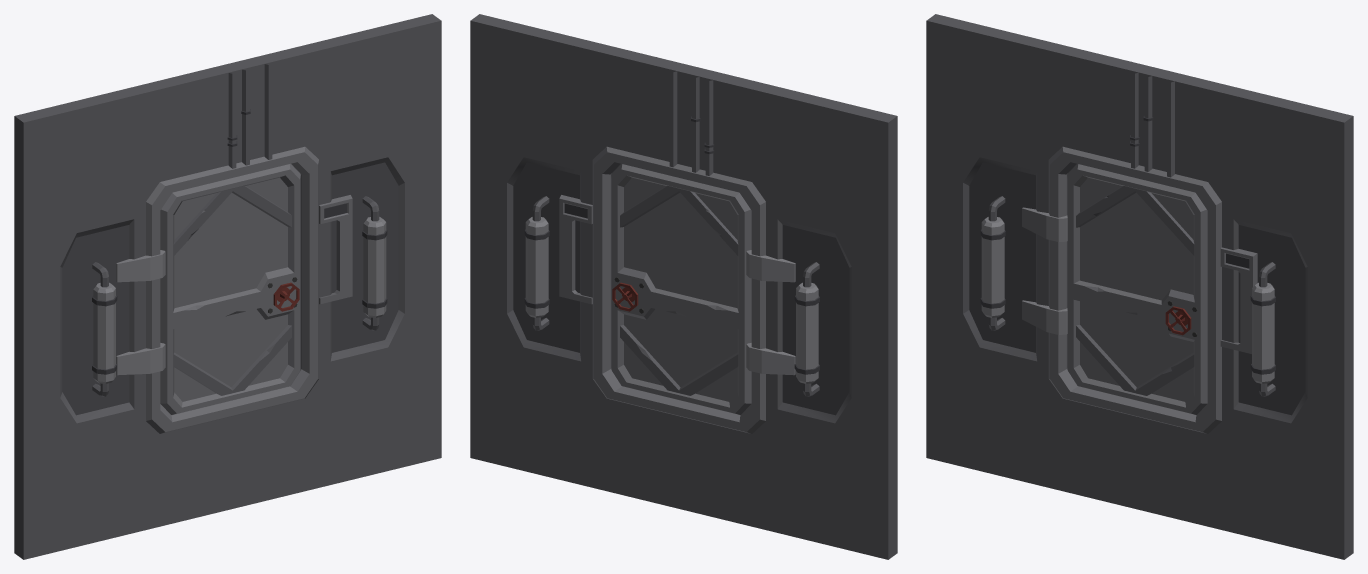
The model's file is SM_Bld_Wall_Doorframe_01.glb.
3 renders of one model, left to right at view 1: azimuth 30°, elevation 25°; view 2: azimuth 150°, elevation 25°; view 3: azimuth 330°, elevation 25°, orthographic.
Parts seen in each view (by area): view 1: SM_Bld_Wall_Doorframe_01, SM_Bld_Wall_Door_01; view 2: SM_Bld_Wall_Doorframe_01, SM_Bld_Wall_Door_01; view 3: SM_Bld_Wall_Doorframe_01, SM_Bld_Wall_Door_01.
Boxes of the visible parts, box(x1,y1,x2,y2) form: SM_Bld_Wall_Doorframe_01: box(14, 14, 441, 559); SM_Bld_Wall_Door_01: box(160, 164, 300, 414); SM_Bld_Wall_Doorframe_01: box(470, 14, 897, 559); SM_Bld_Wall_Door_01: box(611, 164, 751, 414); SM_Bld_Wall_Doorframe_01: box(926, 14, 1353, 559); SM_Bld_Wall_Door_01: box(1067, 164, 1207, 414).
Size of the model in its own units: 5 by 5 by 0.7282.
Materials: 1 (1 with a texture image).
